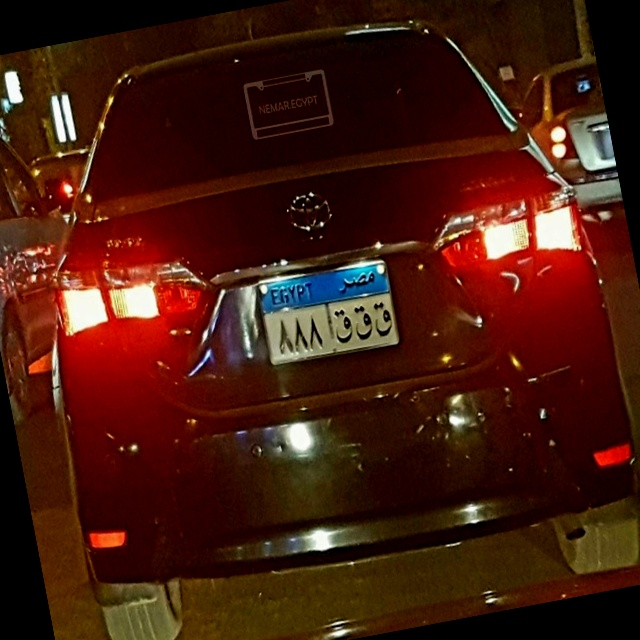License Plate: (249, 251, 408, 375)
